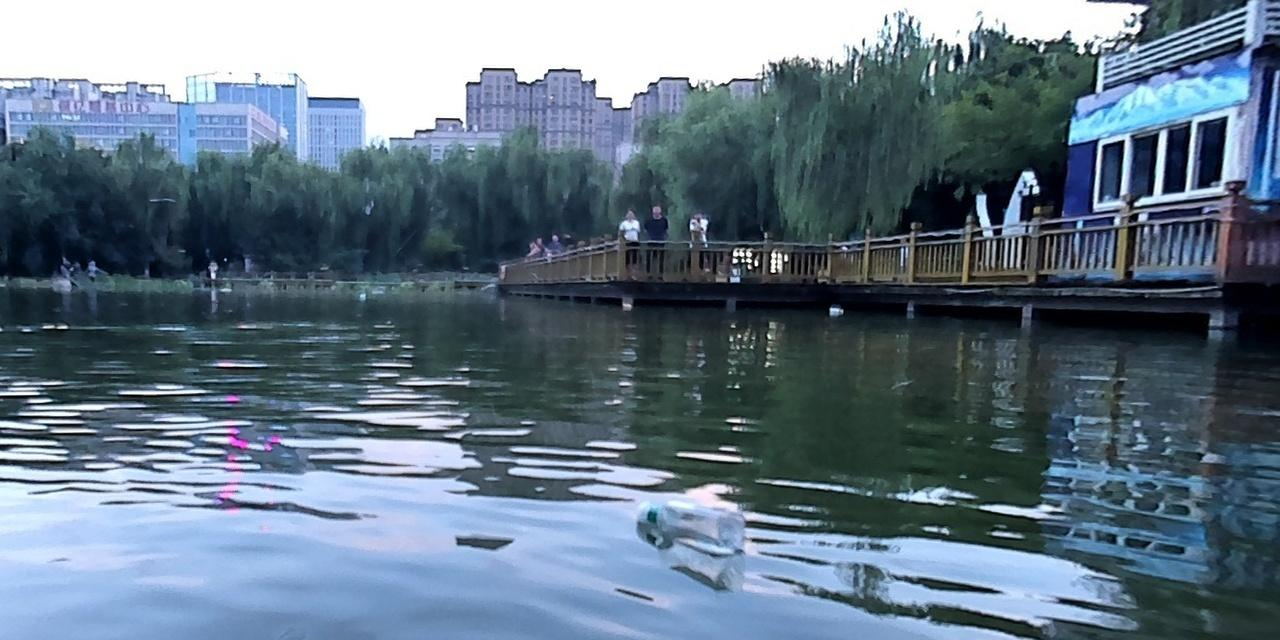bottle: (635, 499, 741, 552), (828, 306, 842, 315)
